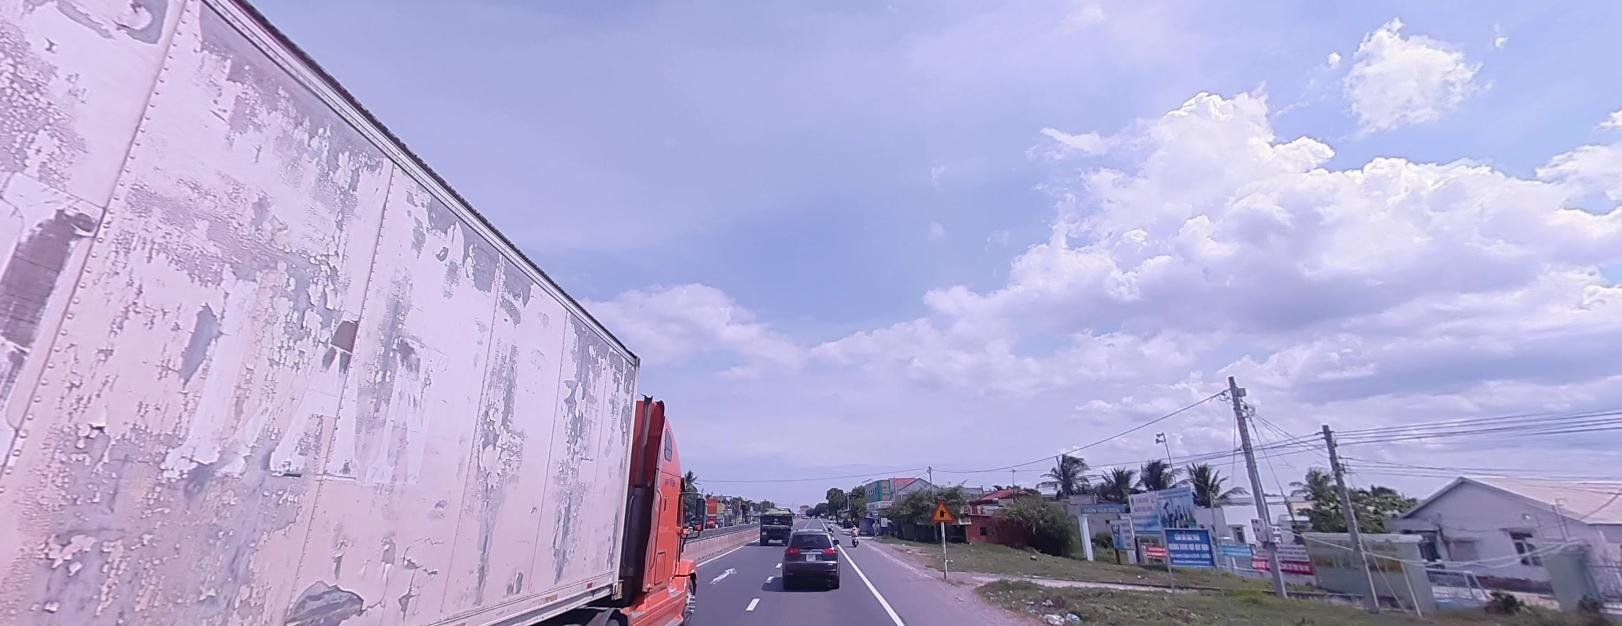Nguy hiem: (929, 497, 956, 523)
